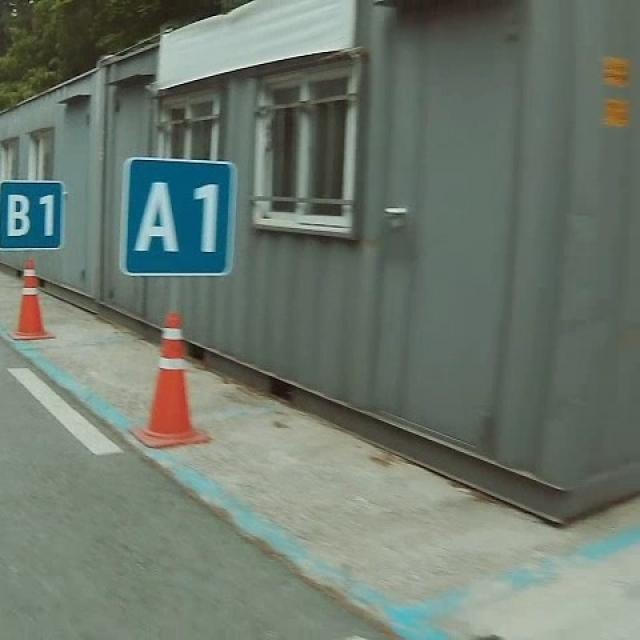a1: (118, 152, 238, 282)
b1: (0, 178, 69, 252)
